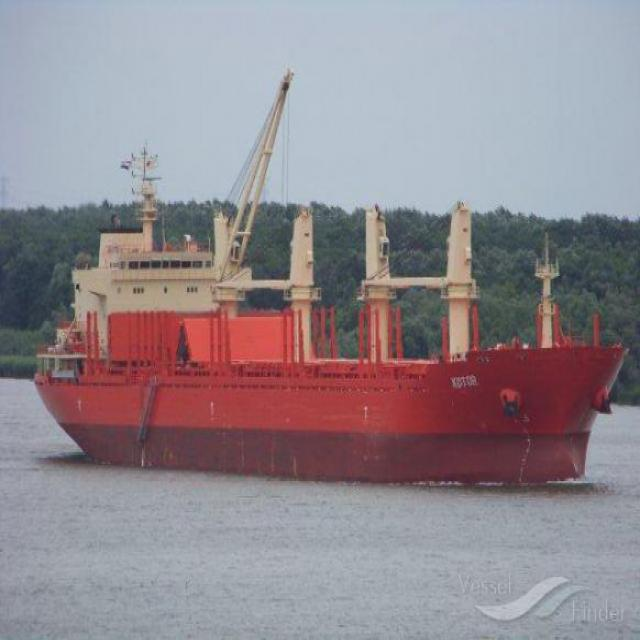OCR: (443, 368, 480, 394)
